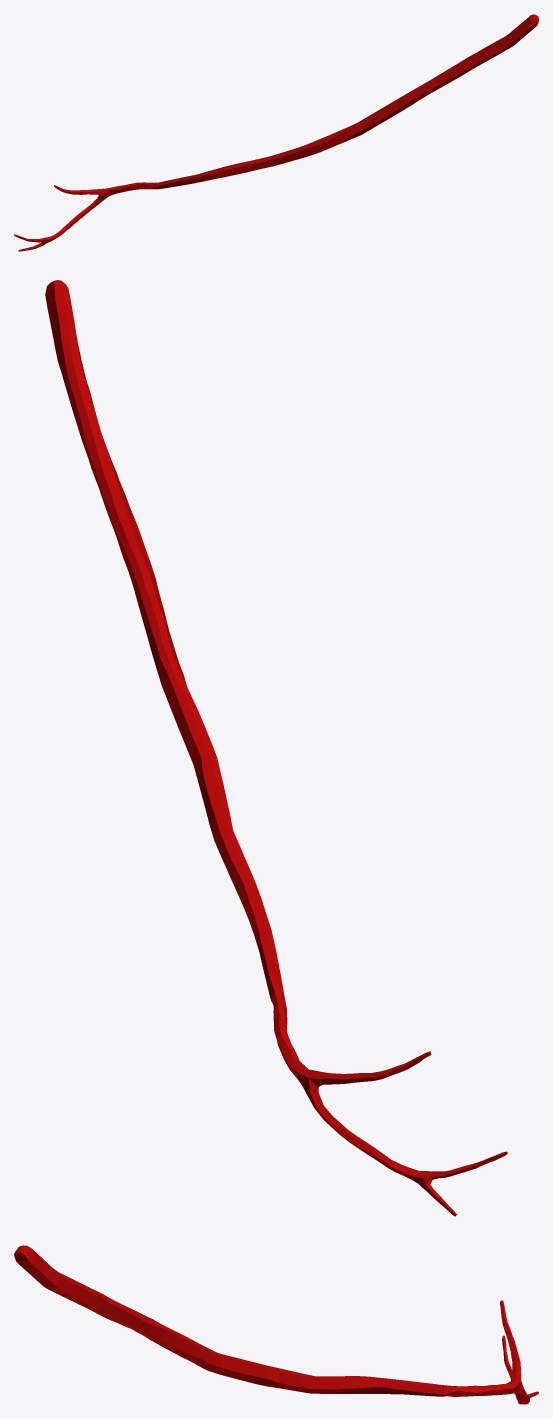
The model's file is Abducens_nerve_R.glb.
3 renders of one model, top to bottom at view 1: azimuth 30°, elevation 25°; view 2: azimuth 150°, elevation 25°; view 3: azimuth 270°, elevation 25°, orthographic. The views are drawn at different scales.
Parts seen in each view (by area): view 1: Abducens_nerve_R; view 2: Abducens_nerve_R; view 3: Abducens_nerve_R.
Boxes of the visible parts, x1,y1,x2,y2 form: Abducens_nerve_R: [14, 14, 538, 251]; Abducens_nerve_R: [45, 280, 507, 1216]; Abducens_nerve_R: [14, 1245, 538, 1404].
Size of the model in its own units: 0.0814 by 0.0546 by 0.0602.
1 material, 1 textured.
